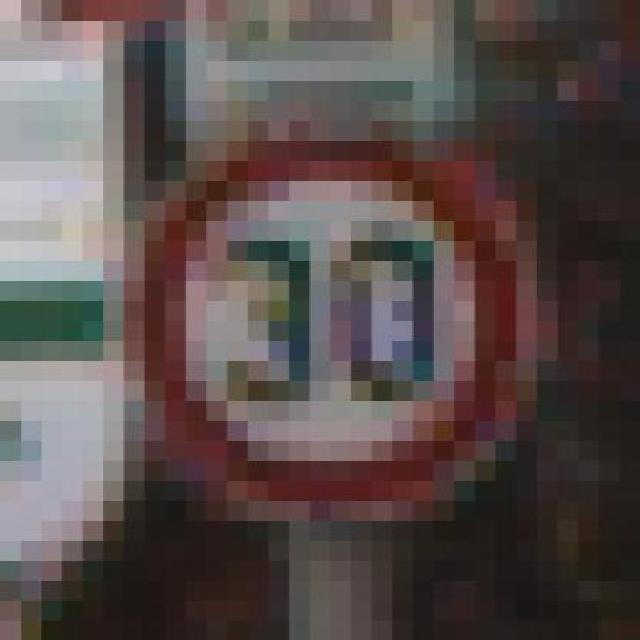Speed Limit 30 KMPh: (20, 120, 578, 520)
